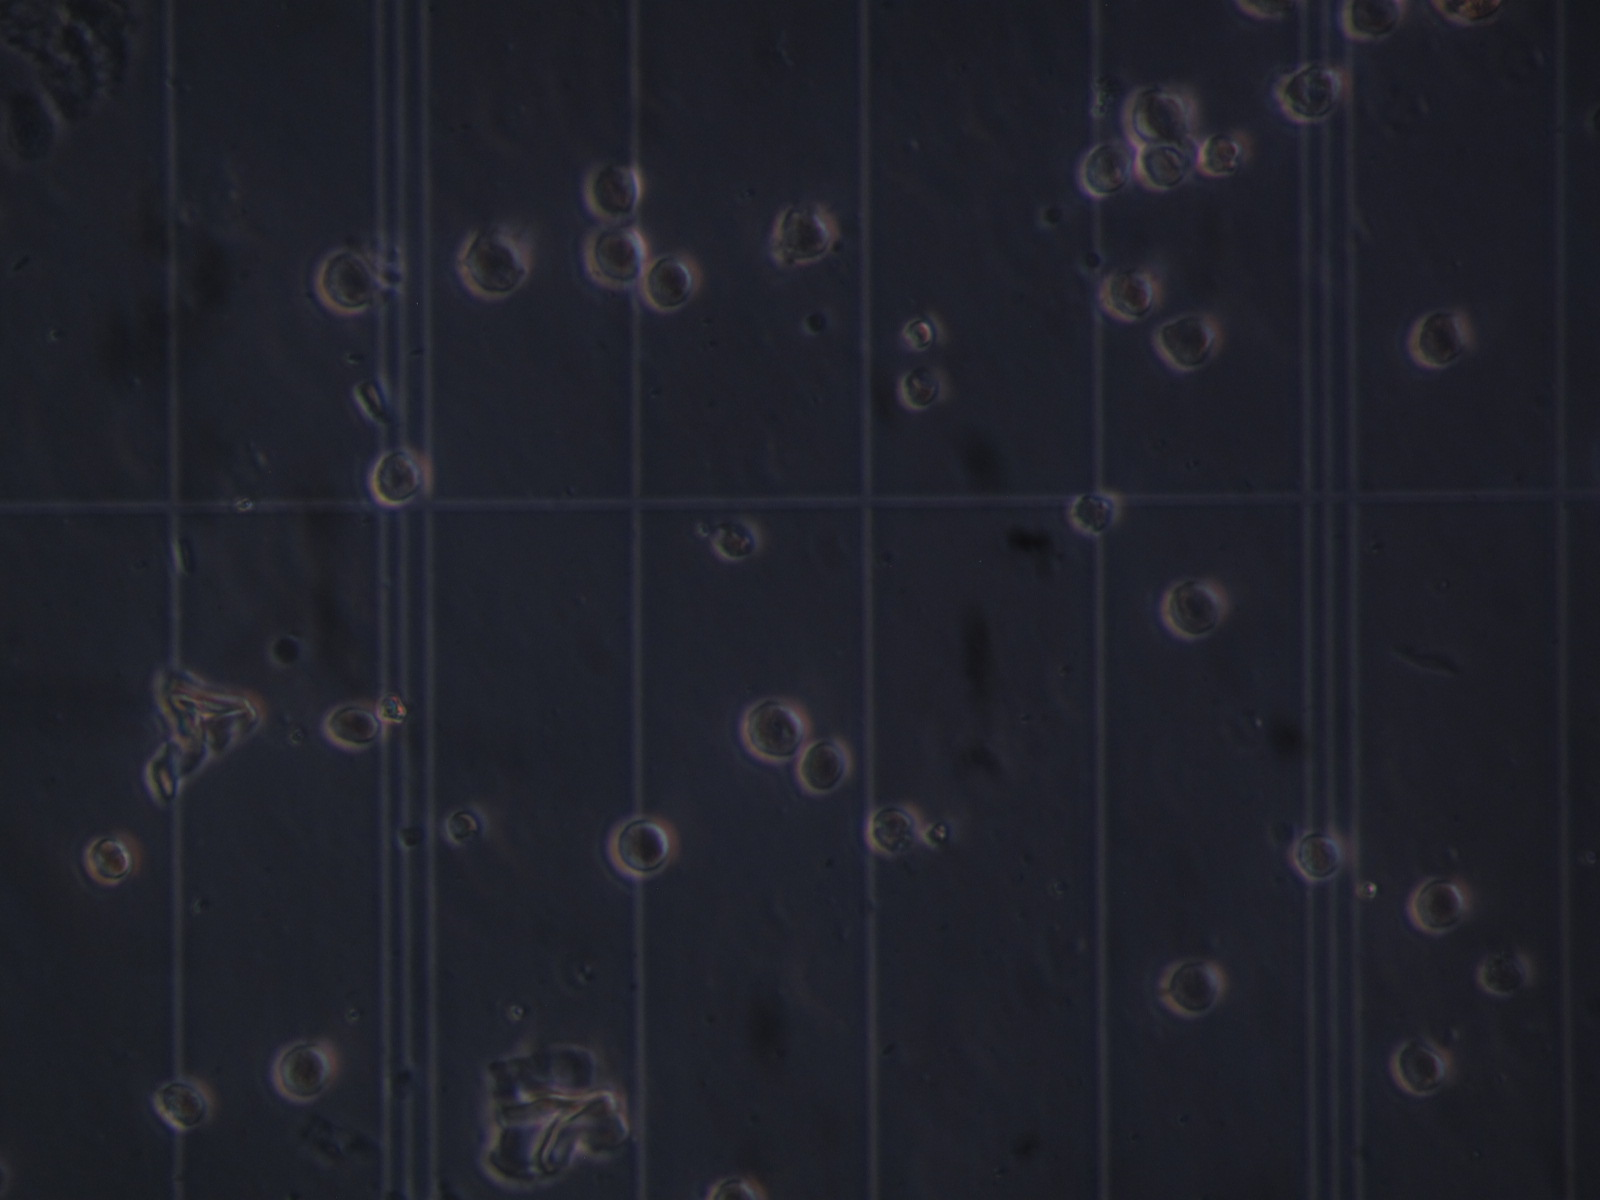hemo: (454, 224, 528, 303), (740, 697, 811, 766), (605, 813, 680, 879), (270, 1037, 340, 1105), (1123, 86, 1199, 146), (583, 222, 648, 291), (1157, 957, 1227, 1018), (312, 250, 375, 316), (367, 445, 433, 508), (1162, 579, 1228, 642), (1154, 313, 1223, 373), (771, 203, 840, 263), (1274, 64, 1342, 125), (1390, 1035, 1453, 1097), (644, 250, 703, 315), (1409, 875, 1471, 935), (1407, 310, 1471, 368), (582, 163, 643, 222), (151, 1074, 215, 1129), (83, 829, 142, 889), (1101, 263, 1162, 321), (324, 702, 386, 754), (1077, 142, 1133, 199), (866, 803, 920, 856), (799, 740, 850, 795), (1133, 145, 1192, 192), (1290, 831, 1343, 882), (1070, 487, 1123, 537), (1340, 1, 1405, 42), (1479, 950, 1534, 997), (900, 363, 952, 411), (712, 516, 763, 563), (1199, 131, 1250, 178), (441, 804, 491, 848), (900, 308, 947, 350), (711, 1175, 766, 1200)
